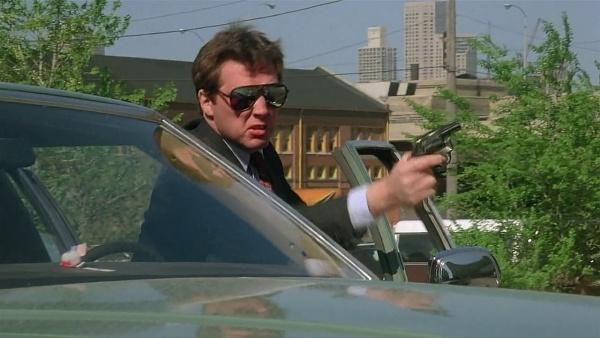Gun: (412, 120, 462, 173)
